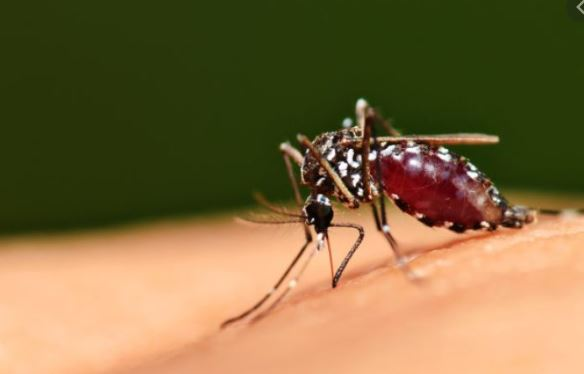dengue_mosquito: (230, 99, 537, 287)
